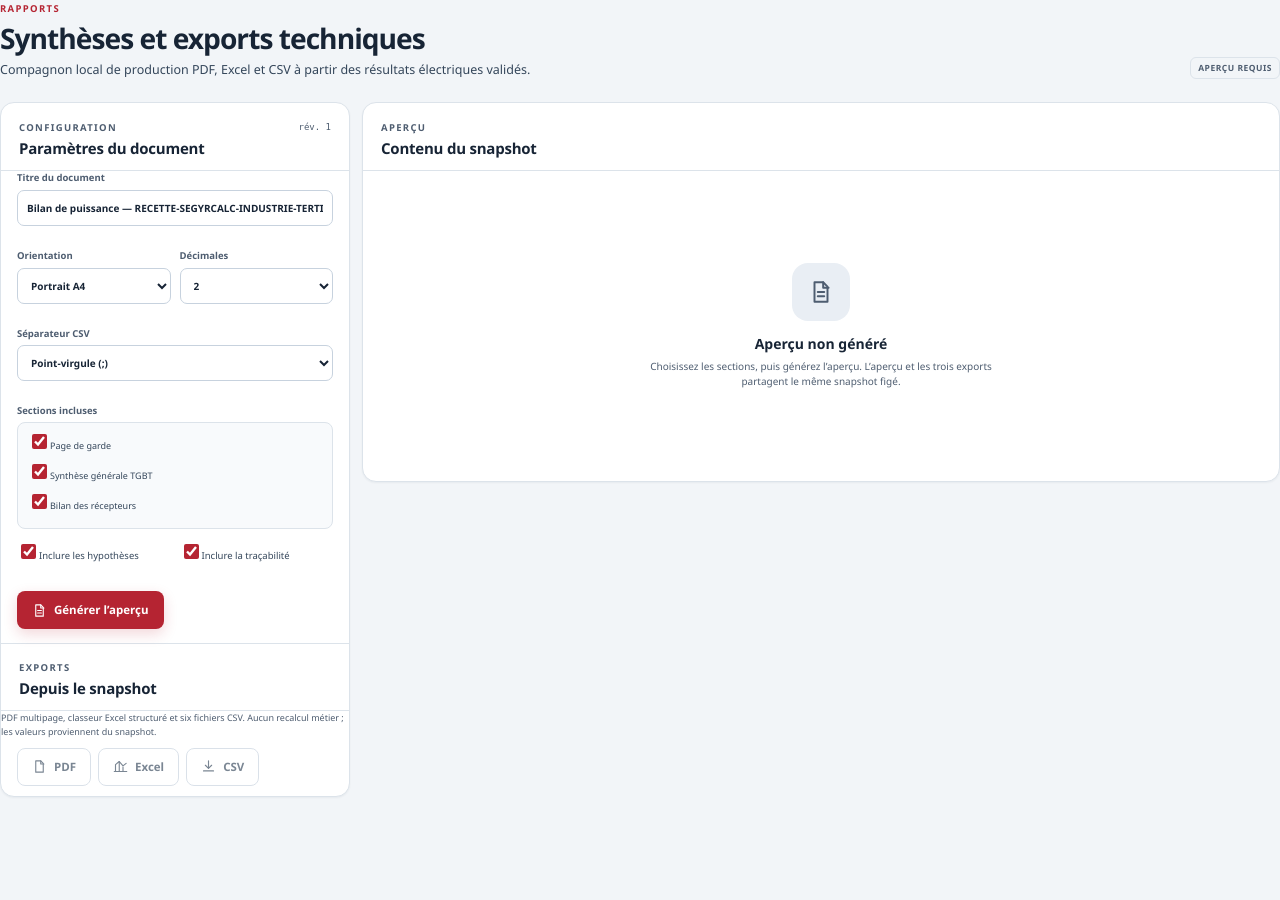
Test: ReportsScreen › exporte le PDF depuis le dialogue de chemin isolé
Click the button with test id "report-preview-generate". click: click(90, 610)
box: [17, 591, 164, 629]
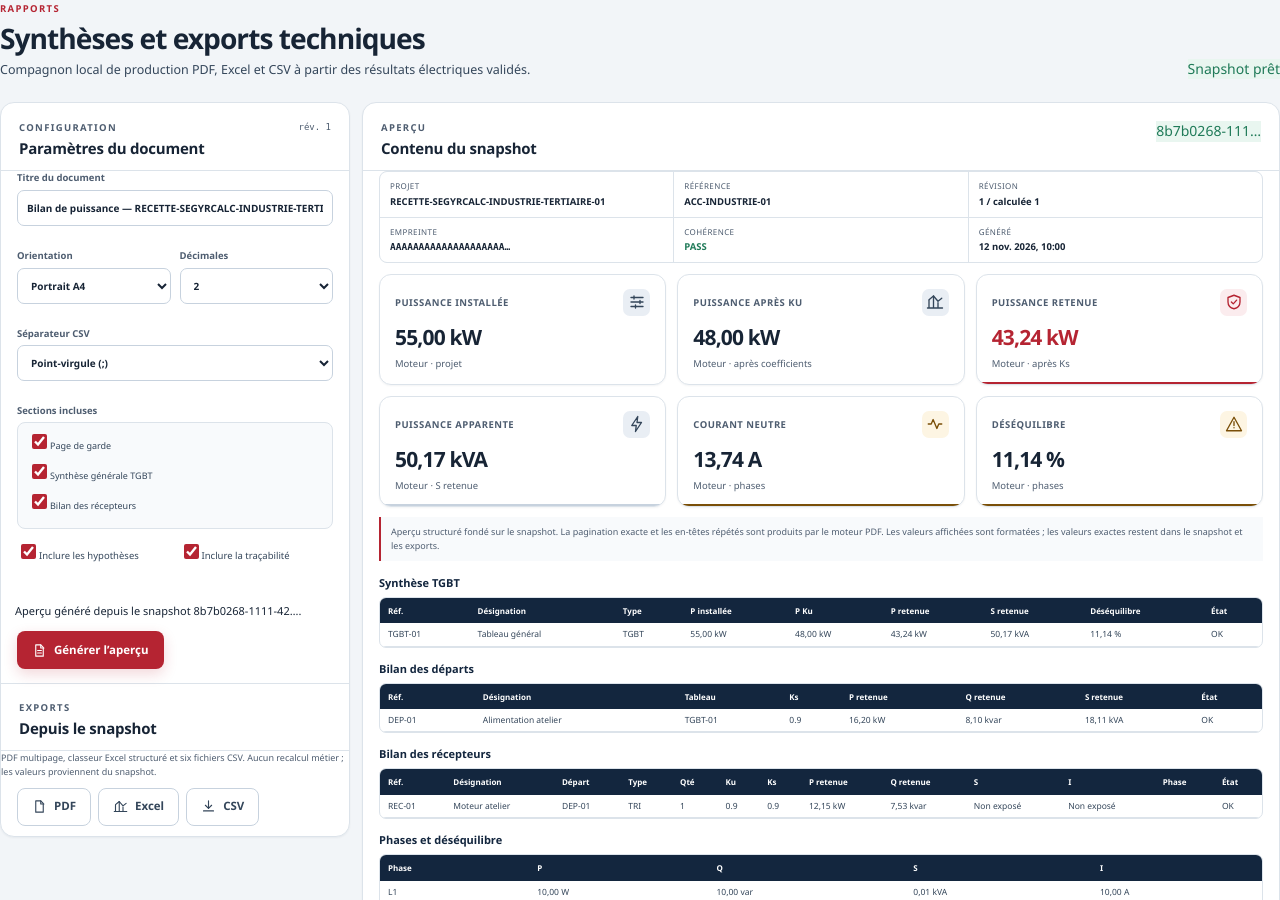
Click the button with test id "report-export-pdf". click: click(54, 807)
box: [17, 788, 91, 826]
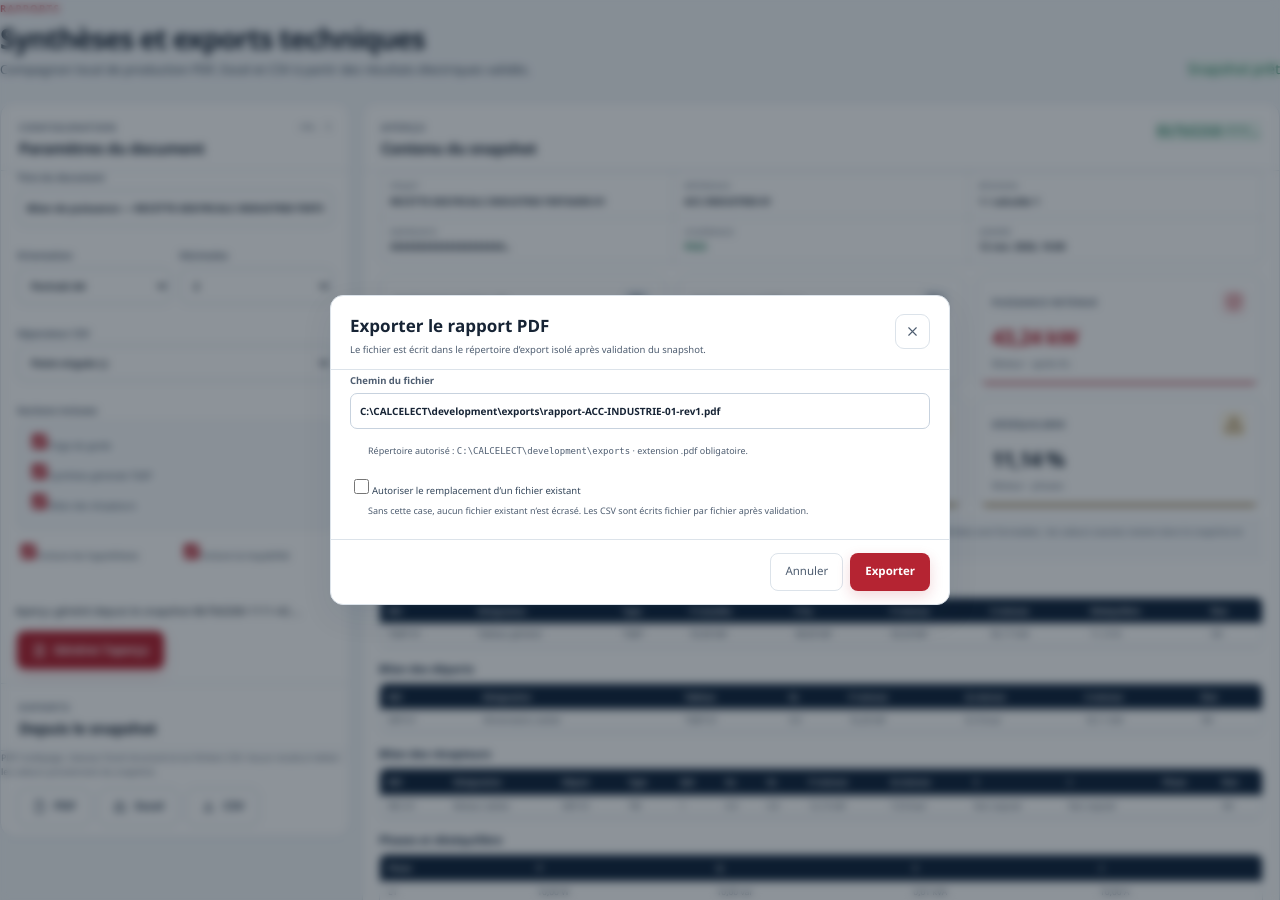
Result: the dialog with test id "export-path-dialog" is shown at [330, 296, 950, 605]
Replace the text in the field with test id "export-path-input" with "C:\\CALCELECT\\development\\exports\\rapport-final.pdf". click: (640, 411)
box: [350, 393, 930, 429]
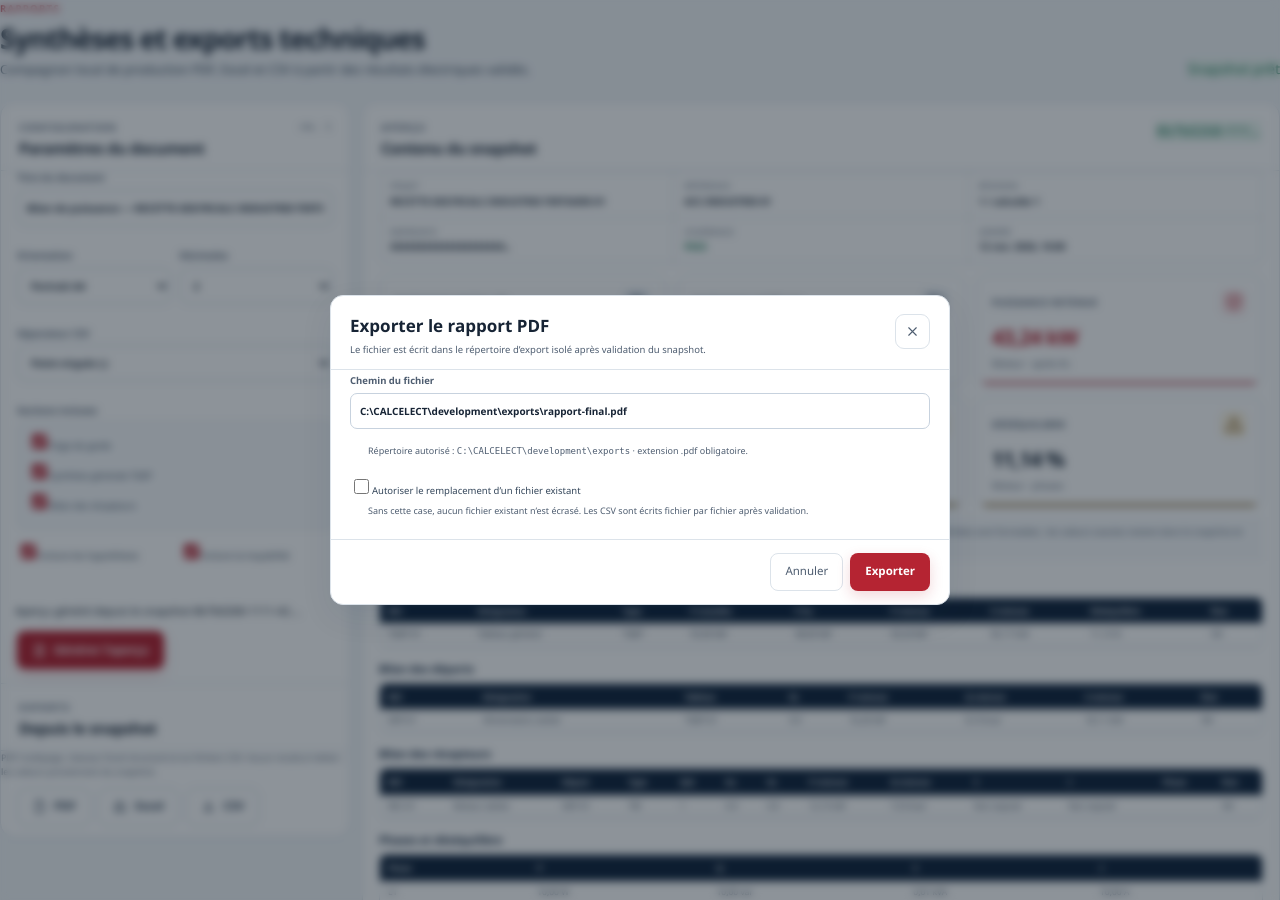
Click the button with test id "export-confirm". click: click(890, 572)
box: [850, 552, 930, 590]
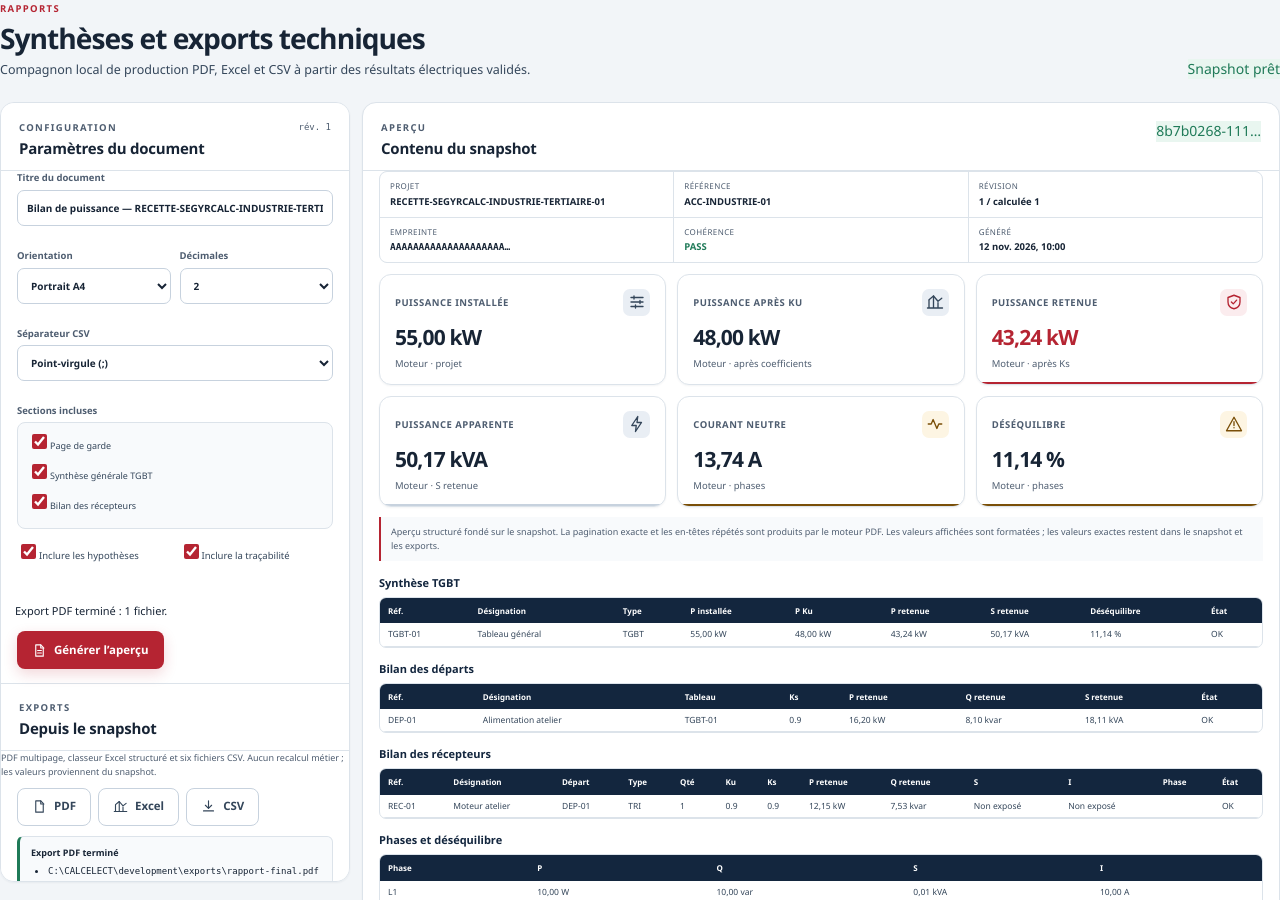
Result: the element with test id "report-export-result" is shown at [17, 836, 333, 882]
Result: the text "C:\\CALCELECT\\development\\exports\\rapport-final.pdf" is shown at [48, 866, 319, 876]
